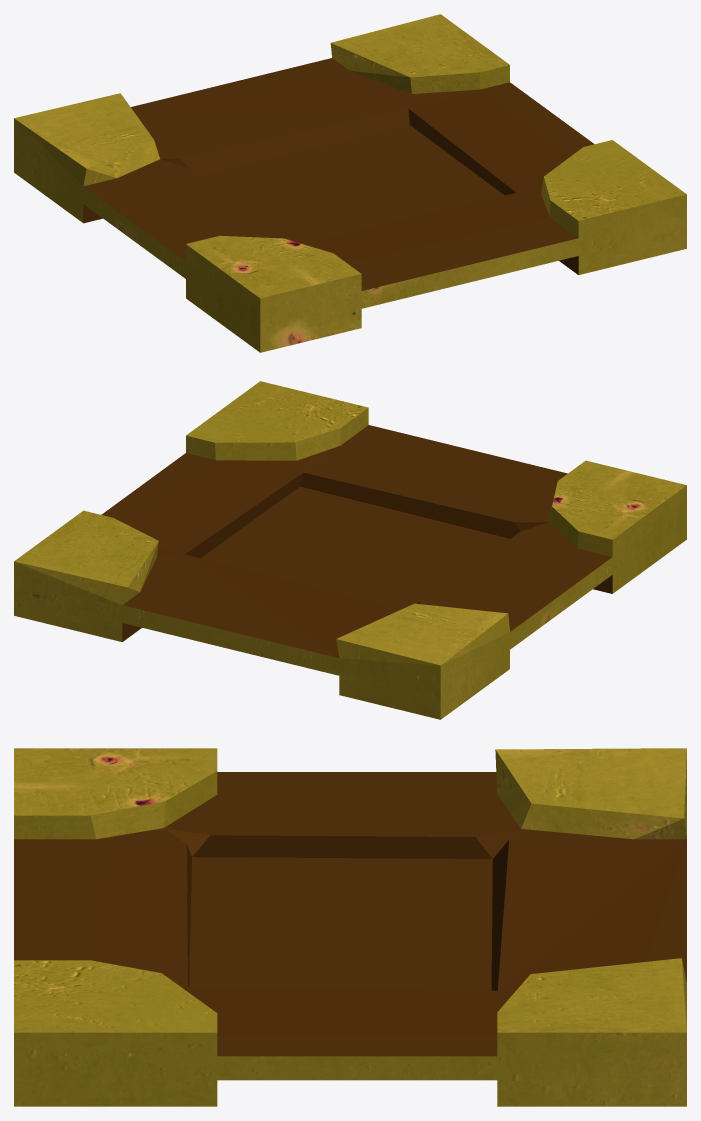
Rendered from platformpje.fbx.
3 views of the same model, one above another, from view 1: azimuth 30°, elevation 25°; view 2: azimuth 150°, elevation 25°; view 3: azimuth 270°, elevation 25° (orthographic). The views are drawn at different scales.
Parts seen in each view (by area): view 1: Platform; view 2: Platform; view 3: Platform.
Boxes of the visible parts, left/top/right/bottom form: Platform: left=14, top=14, right=686, bottom=352; Platform: left=14, top=381, right=686, bottom=719; Platform: left=14, top=748, right=686, bottom=1106.
Size of the model in its own units: 200 by 24.43 by 200.
